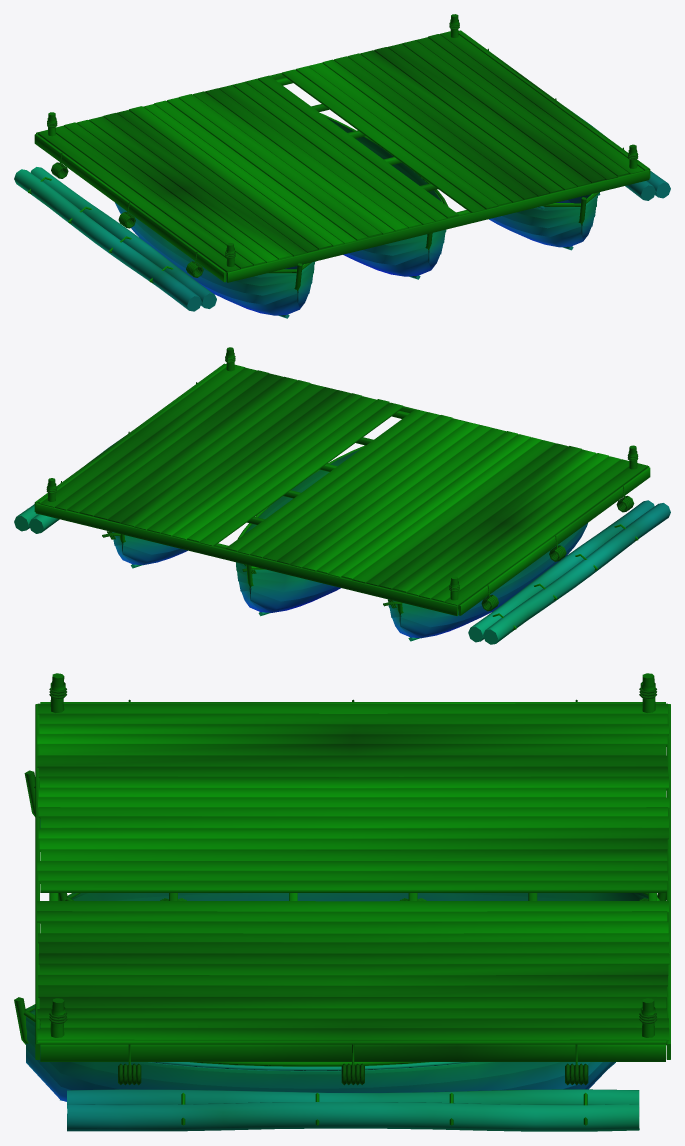
File: raft_deck_tucked.glb
3 renders of one model, top to bottom at view 1: azimuth 30°, elevation 25°; view 2: azimuth 150°, elevation 25°; view 3: azimuth 270°, elevation 25°, orthographic. The views are drawn at different scales.
Visible parts, largest first — view 1: raft_deck_tucked; view 2: raft_deck_tucked; view 3: raft_deck_tucked.
Part boxes in pixels (x1,y1,x2,y2): raft_deck_tucked: (14, 14, 670, 318); raft_deck_tucked: (14, 347, 670, 644); raft_deck_tucked: (14, 673, 670, 1131).
Size of what is drawn, in the model's own units: 10.45 by 2.17 by 7.35.
